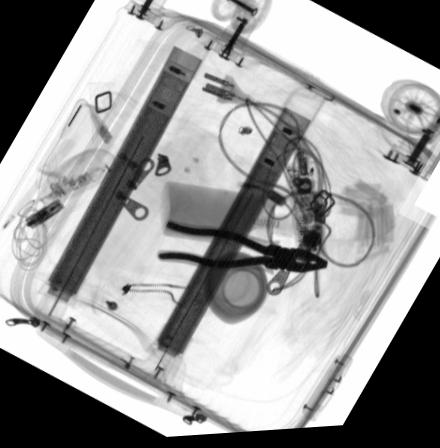Pliers: (155, 223, 328, 277)
